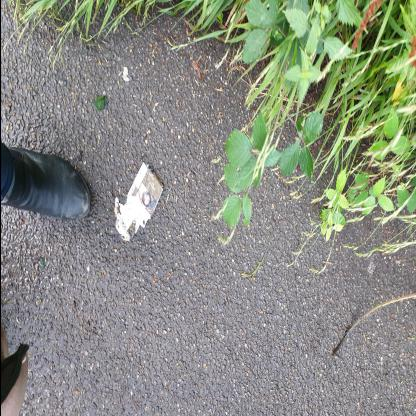karton: (114, 162, 162, 241)
